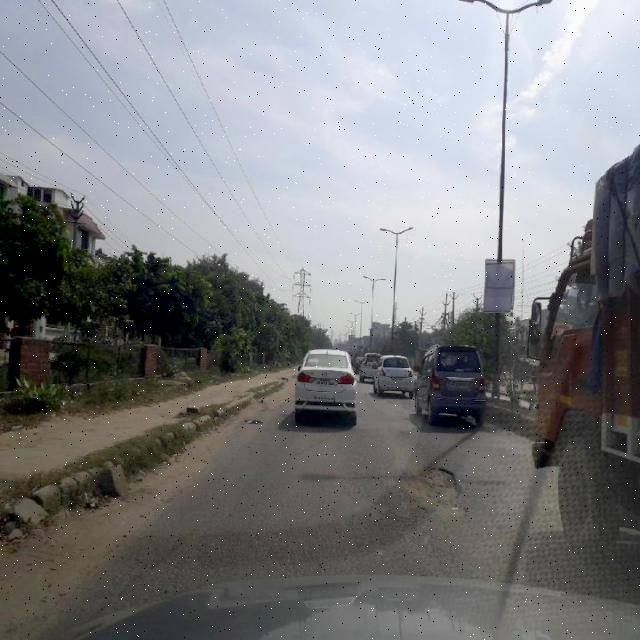D40: (394, 457, 472, 512)
